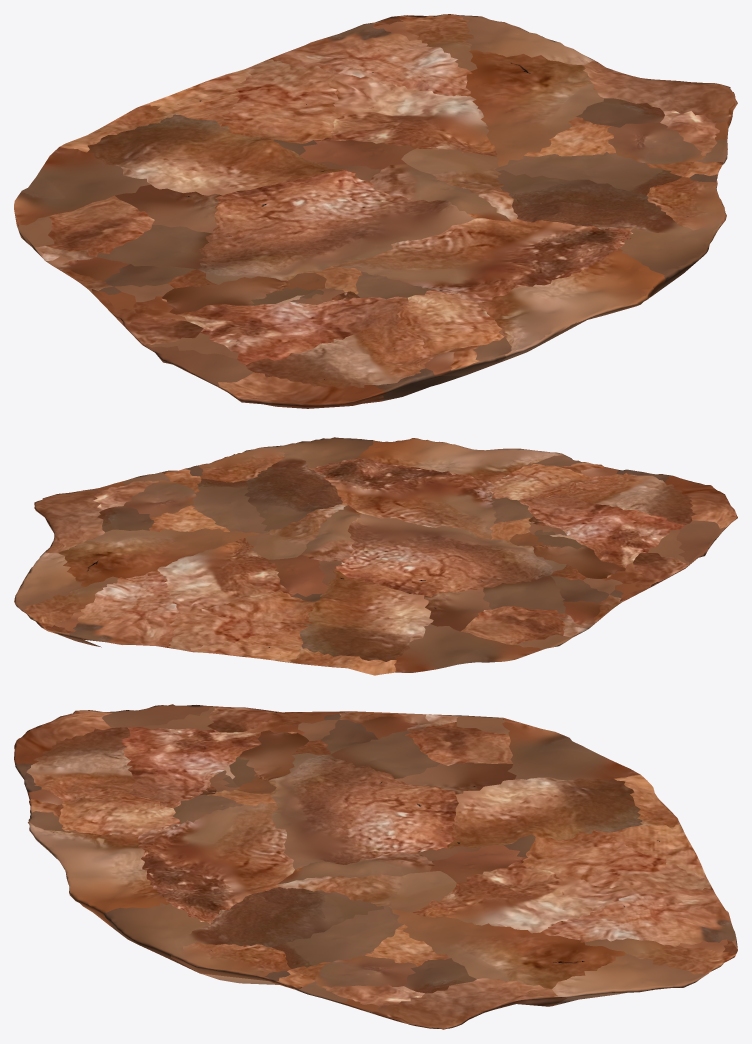
The model's file is baked_mesh.obj.
The picture shows the model from 3 angles, top to bottom: view 1: azimuth 30°, elevation 25°; view 2: azimuth 150°, elevation 25°; view 3: azimuth 270°, elevation 25°; orthographic projection. The views are drawn at different scales.
Parts seen in each view (by area): view 1: g0; view 2: g0; view 3: g0.
Boxes of the visible parts, x1=… form: g0: x1=14, y1=14, x2=737, y2=408; g0: x1=14, y1=437, x2=737, y2=675; g0: x1=14, y1=704, x2=737, y2=1029.
Size of the model in its own units: 0.3691 by 0.0158 by 0.3525.
